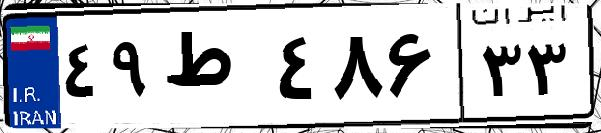3: (475, 38, 525, 113), (525, 38, 570, 115)
4: (270, 28, 330, 110), (57, 26, 110, 100)
6: (385, 28, 445, 110)
8: (330, 28, 385, 110)
9: (110, 28, 158, 98)
ط: (158, 20, 270, 120)
